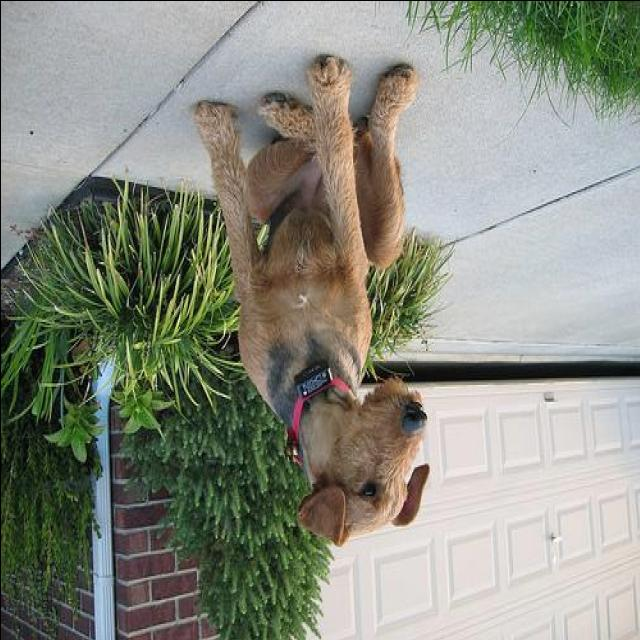airedale: (190, 48, 430, 550)
